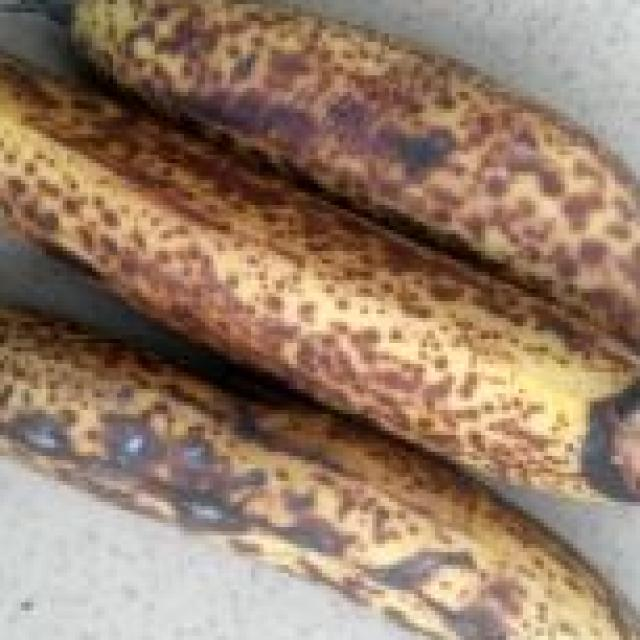Bad_Banana-0 day: (0, 0, 640, 640)
